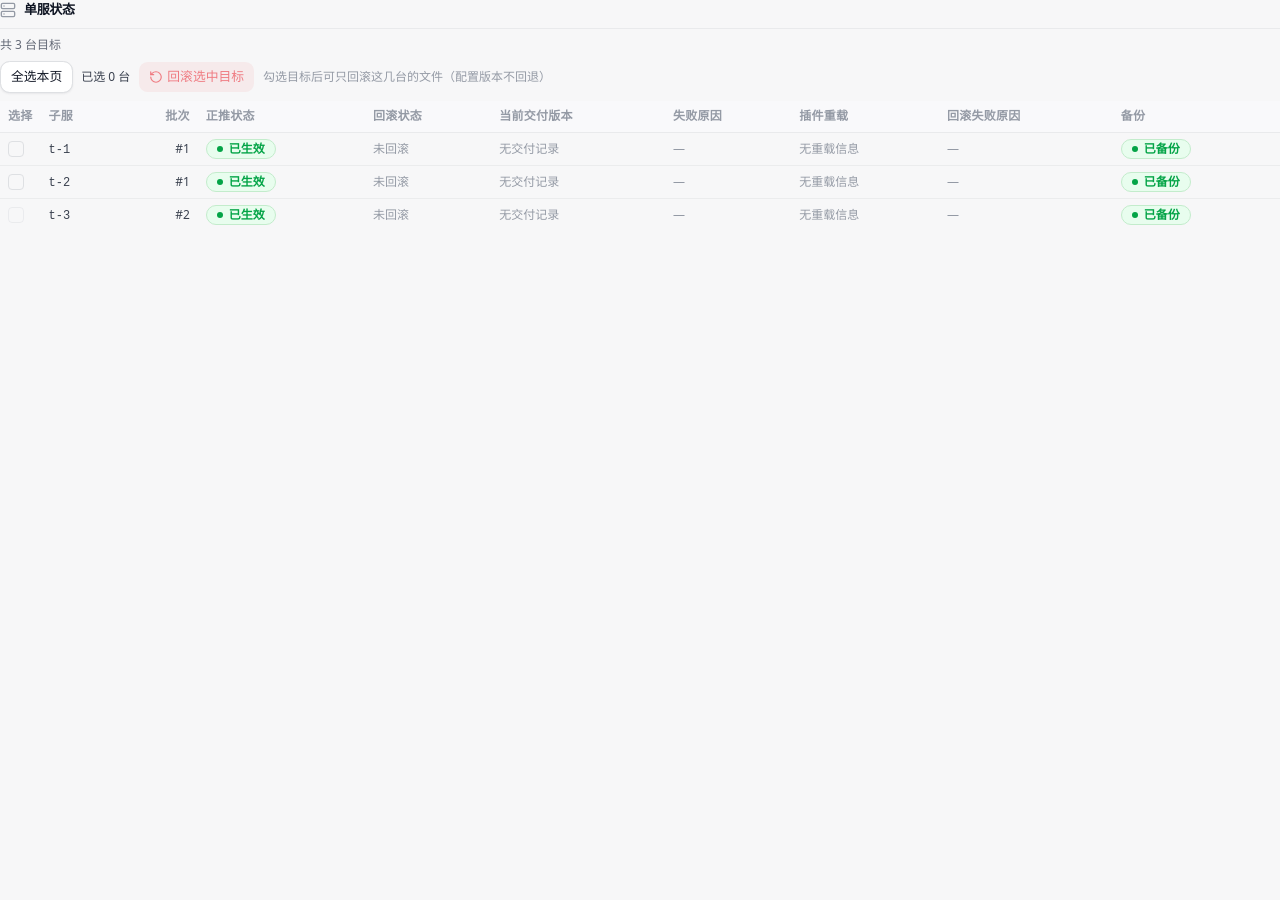
全选判定基数（可回滚口径） › 含未推送台时：勾满可勾选目标即等价整单（提示含配置回退），与后端 eligible 口径一致
The width and height of the screenshot is (1280, 900).
Expected: the column heading "批次" is shown, x1=119 y1=100 x2=198 y2=132
Step 1. Click the checkbox named "t-1" → [16, 149], box x1=8 y1=141 x2=24 y2=157
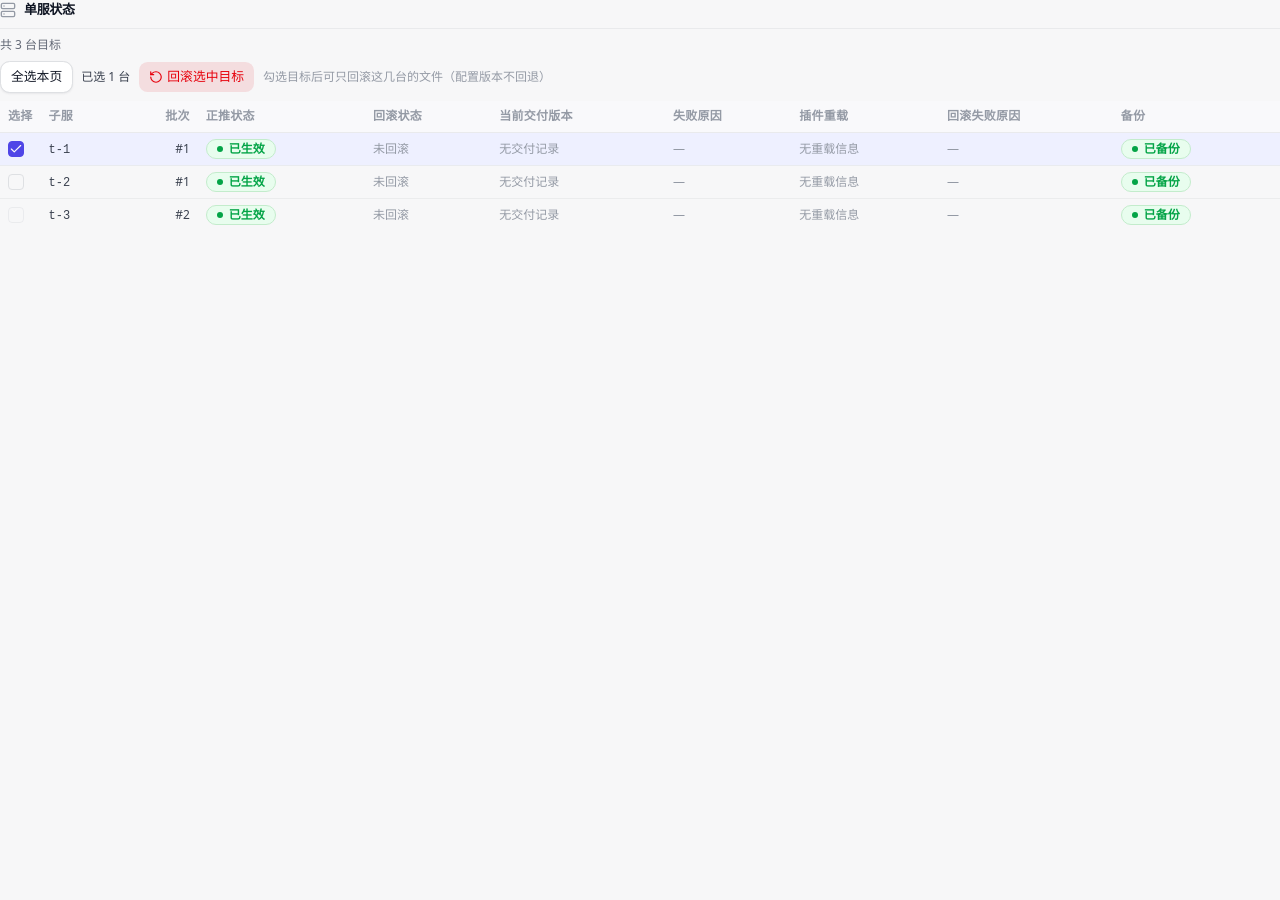
Step 2. Click the checkbox named "t-2" → [16, 182], box x1=8 y1=174 x2=24 y2=190
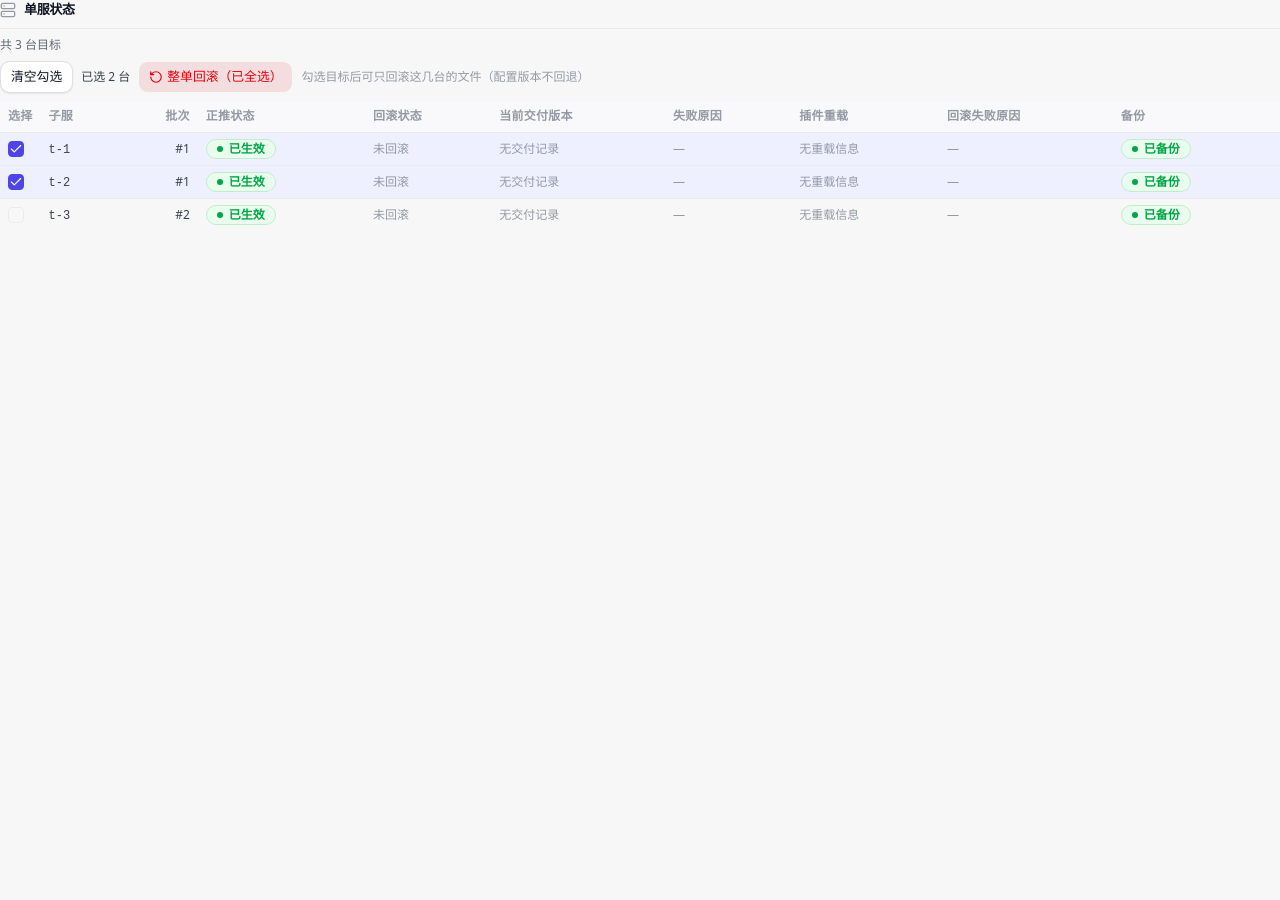
Now the button "整单回滚（已全选）" is shown
Step 3. Click the button "整单回滚（已全选）" → [216, 76], box x1=138 y1=60 x2=294 y2=92
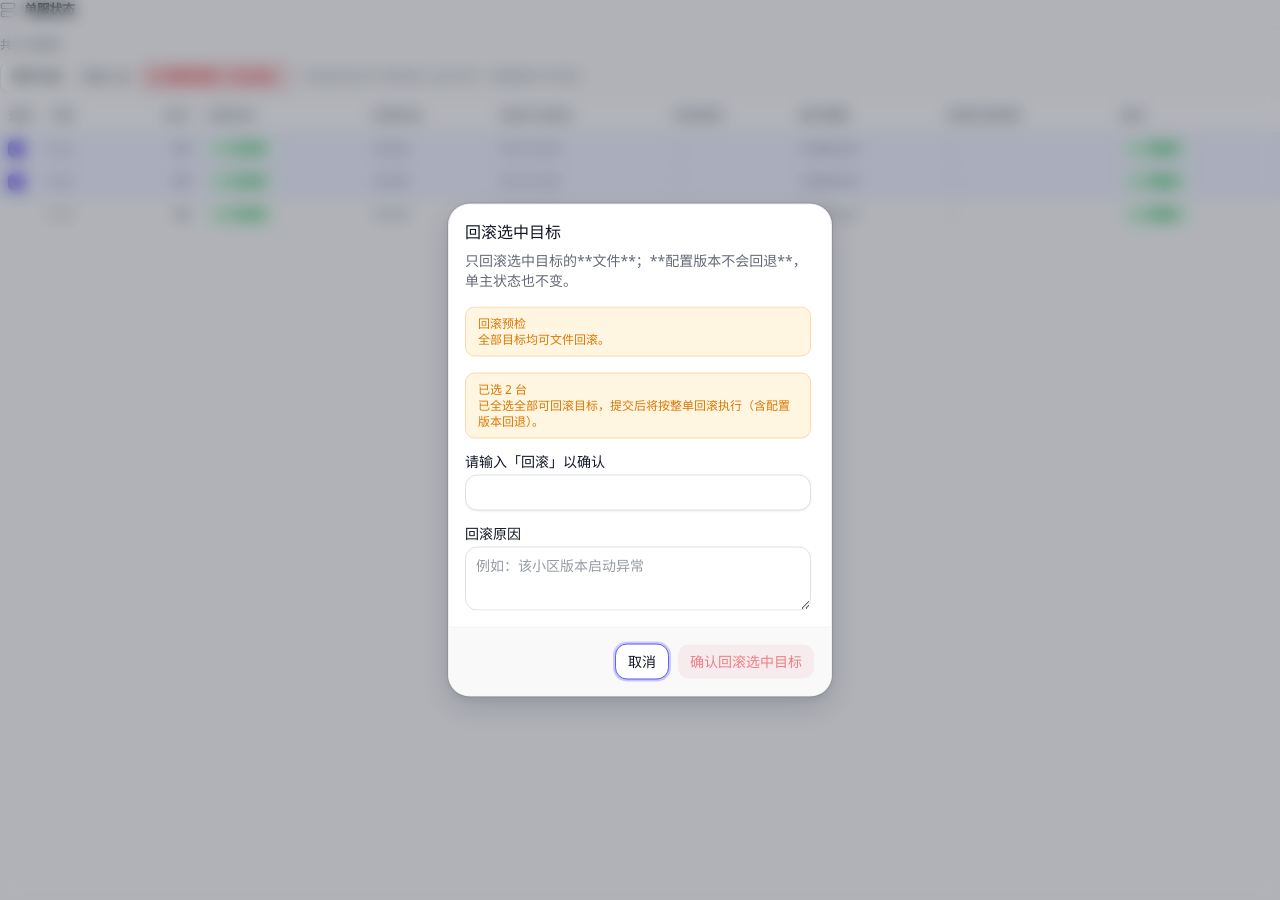
Now the text "已全选全部可回滚目标，提交后将按整单回滚执行（含配置版本回退）。" is shown, box x1=478 y1=398 x2=798 y2=430
